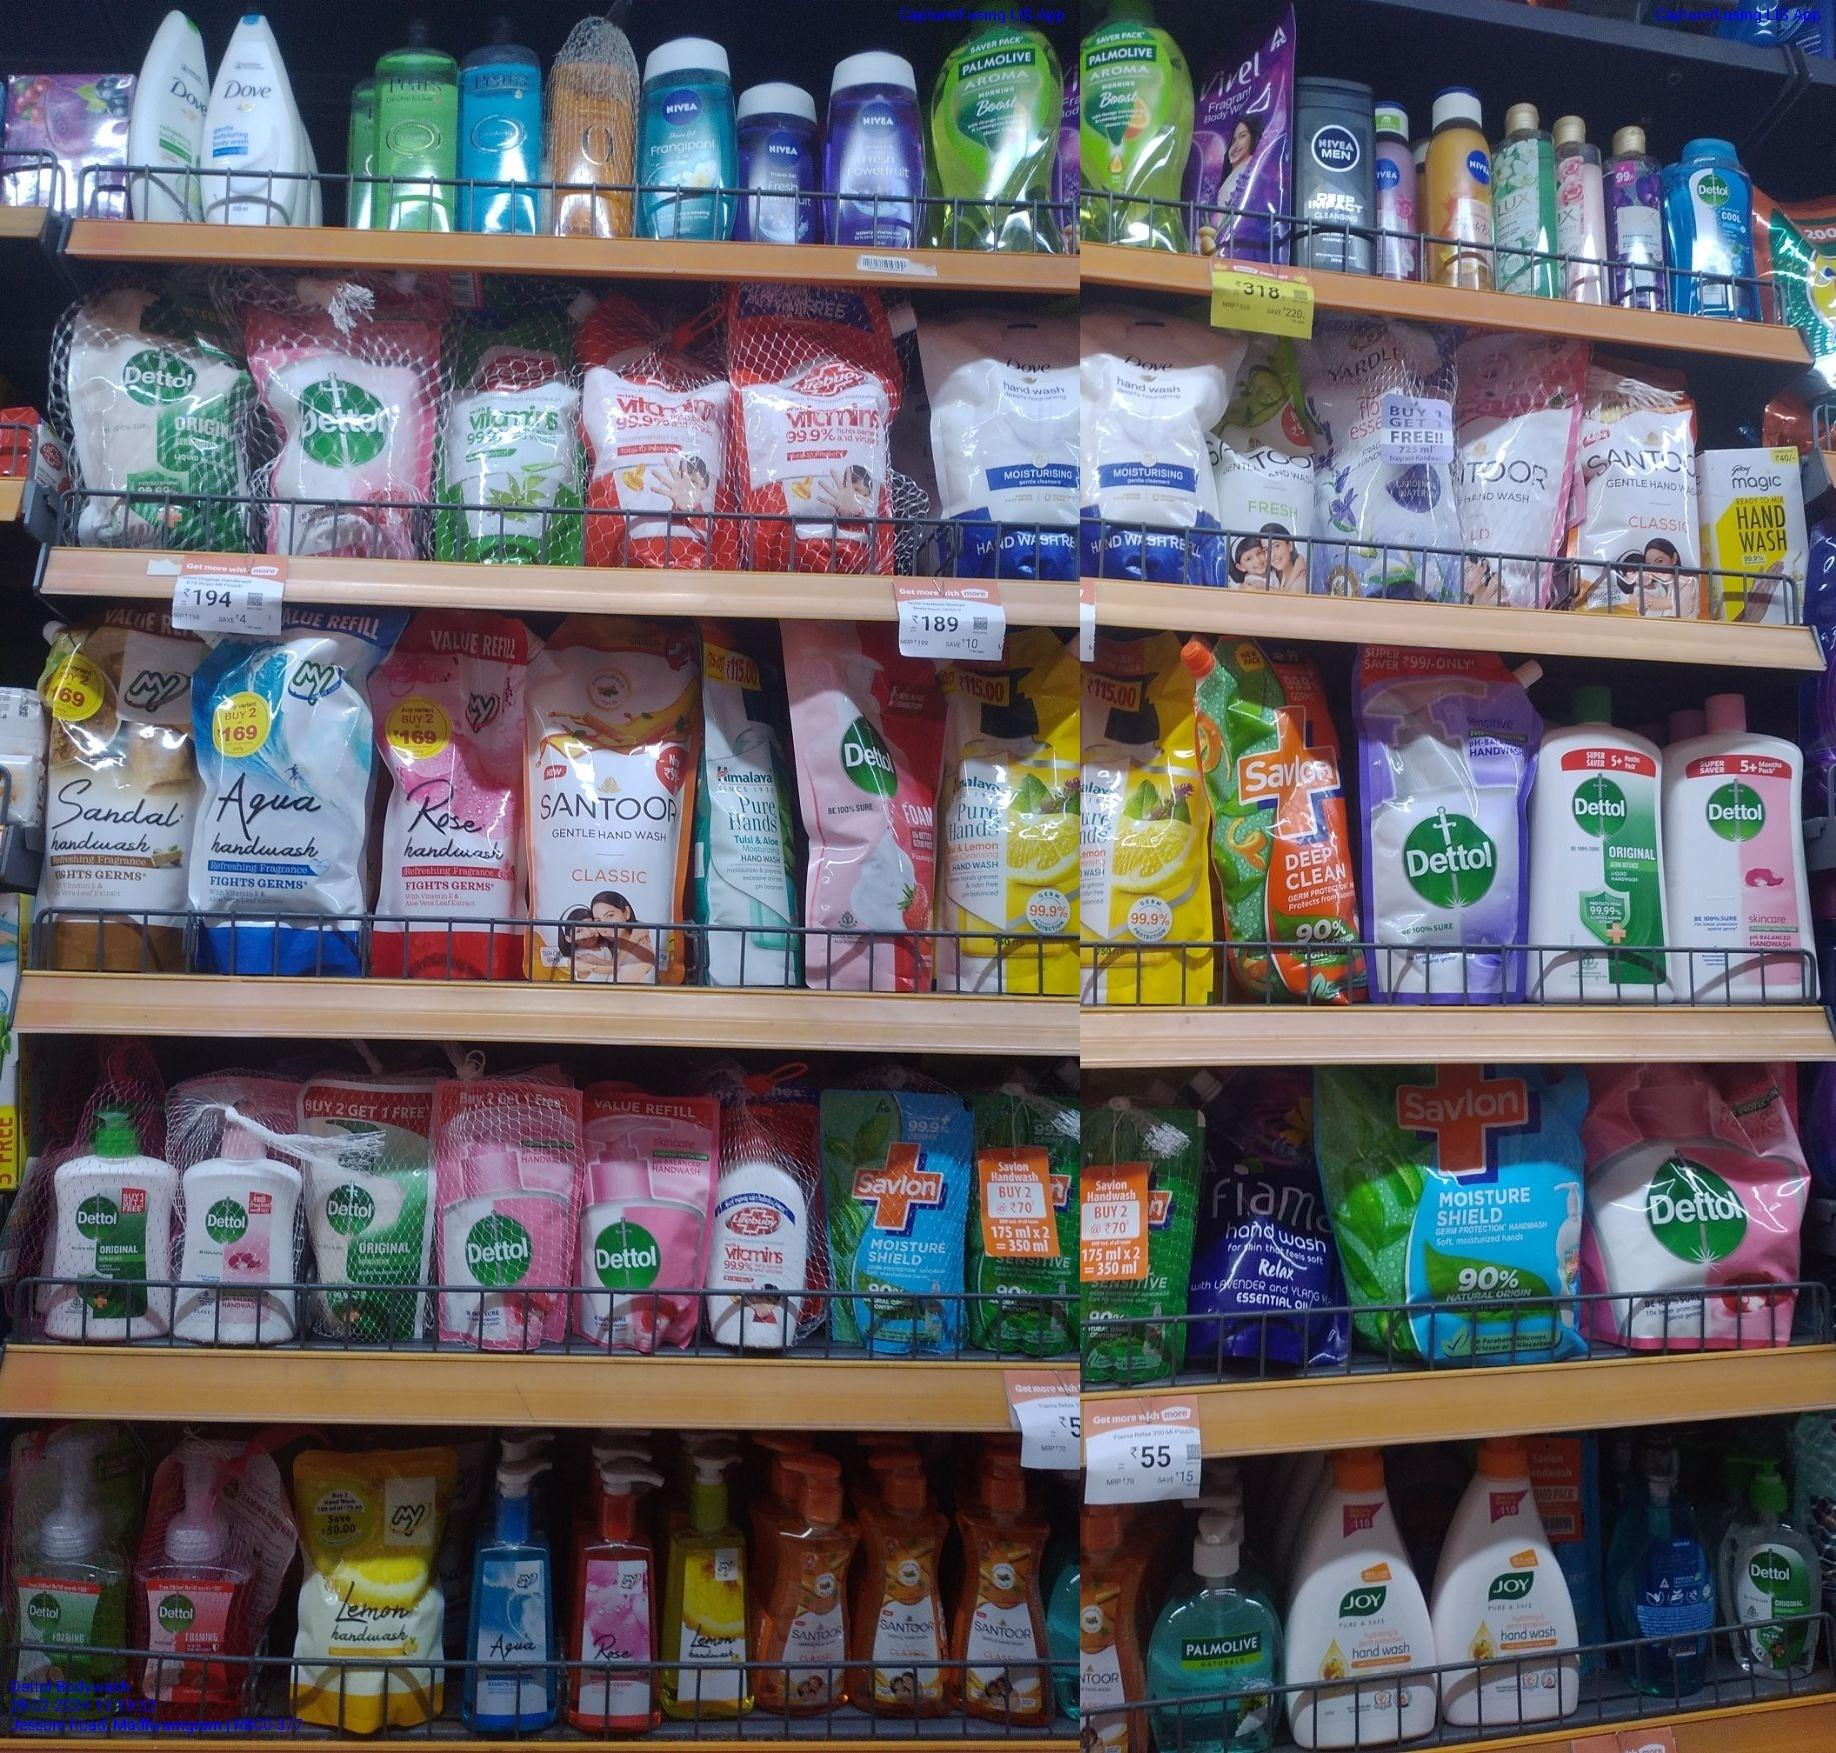Dettol_Bodywash_Cool: (1677, 133, 1756, 320)
Dove_Gentle_Exfoliating_Body_Wash_250ML: (207, 13, 292, 230)
Dove_Refreshing_Body_Wash_250ML: (138, 7, 200, 225)
Lux_Black_Orchid_Scent_and_Juniper_Oil_Body_Wash_245ML: (1606, 123, 1669, 307)
Lux_Body_Wash_Skin_Detox_Freesia_Scent_and_Alove_Vera_245ML: (1490, 97, 1556, 298)
Nivea_Shower_Gel_Frangipani_and_Oil_250ML: (639, 25, 734, 246)
Nivea_Shower_Gel_Fresh_Powerfruit_250ML: (823, 51, 923, 257), (739, 77, 820, 244)
Pears_Pure_Glycerin_and_Mint_Extracts_Body_Wash_250ML: (461, 13, 544, 238)
